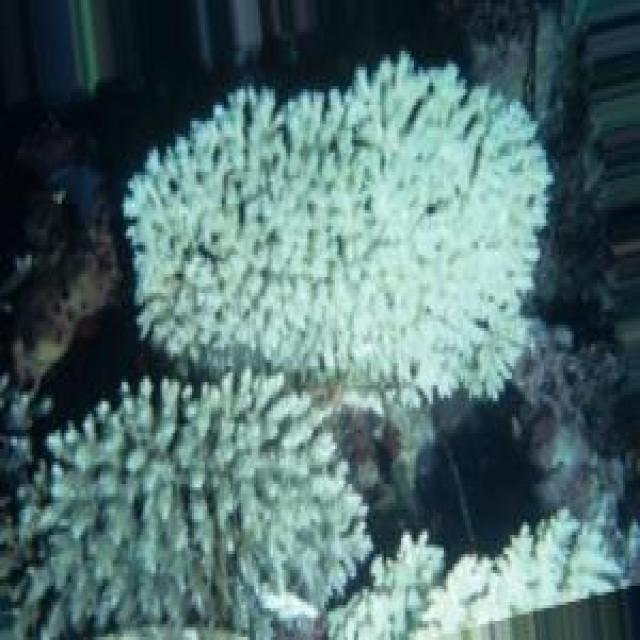bleached coral: (124, 54, 550, 400), (21, 369, 372, 637), (328, 481, 640, 639)
